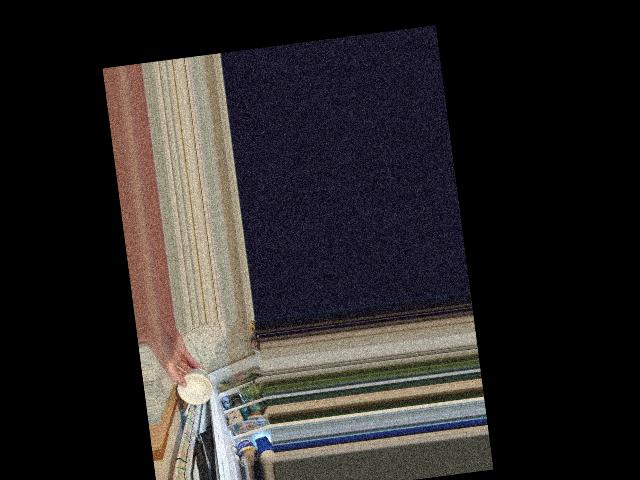cotage: (178, 368, 213, 405)
